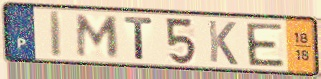5: (164, 16, 199, 66)
E: (244, 22, 287, 69)
I: (48, 9, 64, 60)
K: (206, 18, 240, 67)
M: (75, 12, 121, 59)
T: (123, 15, 156, 62)
